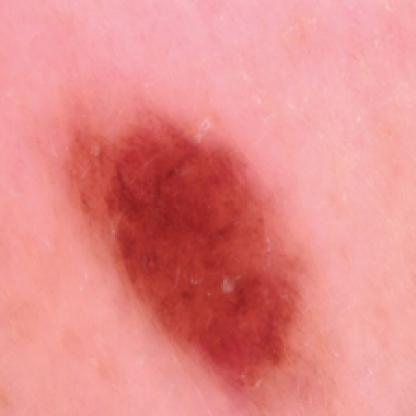benign: (67, 124, 338, 400)
